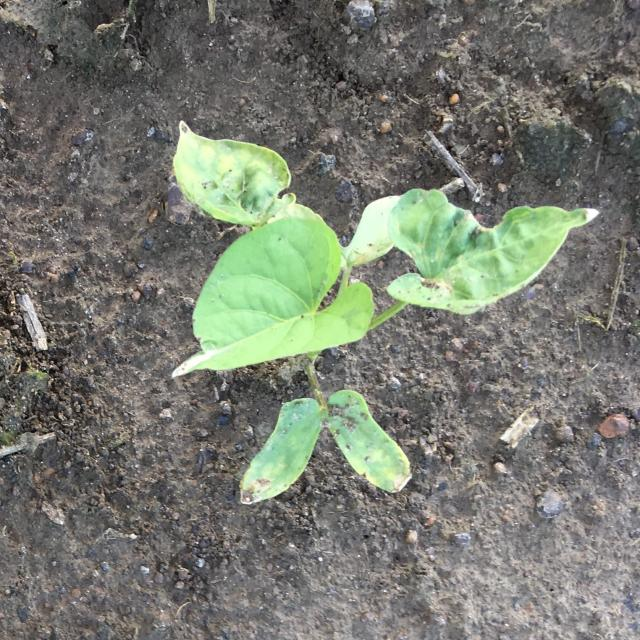MorningGlory: (172, 122, 599, 505)
